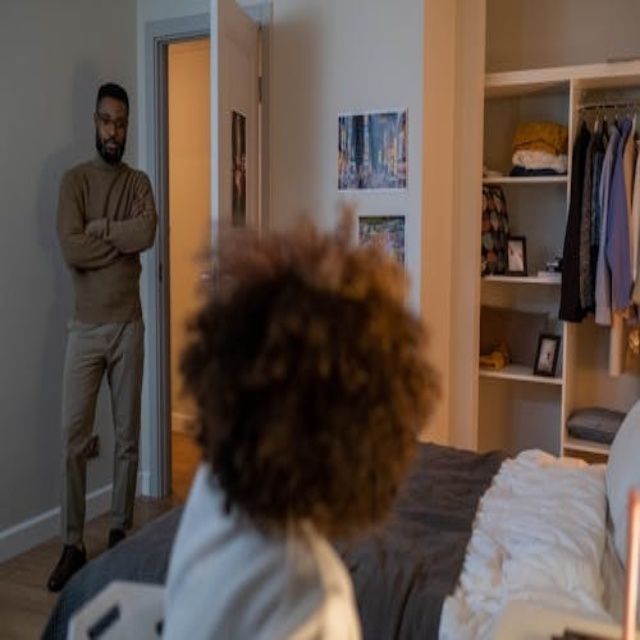Gafas: (92, 102, 131, 129)
Sin_mascara: (99, 129, 122, 158)
